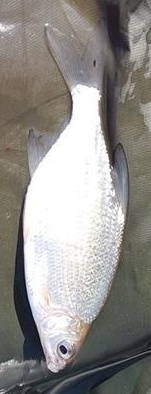Blicca bjoerkna: (20, 20, 131, 374)
